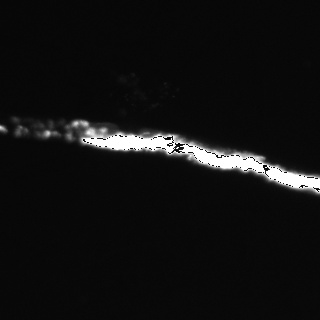embryo: (79, 122, 119, 145), (138, 130, 171, 151)
